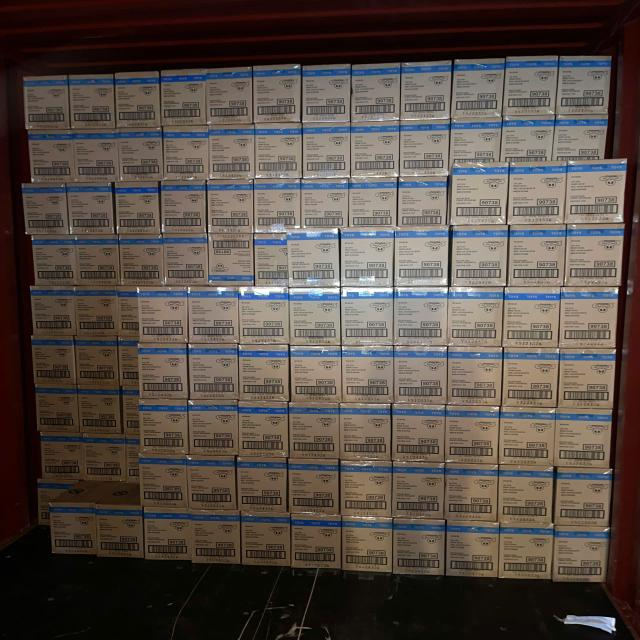Carton: (564, 157, 628, 224), (508, 159, 568, 227), (564, 223, 625, 287), (452, 161, 511, 227), (506, 225, 569, 286), (560, 285, 619, 350), (559, 347, 617, 411), (393, 226, 450, 290), (556, 466, 613, 530), (452, 226, 511, 287), (504, 286, 562, 348), (498, 406, 555, 469), (497, 464, 553, 528), (504, 54, 560, 118), (501, 347, 559, 408), (554, 407, 612, 468), (391, 516, 448, 578), (497, 521, 554, 582), (392, 460, 448, 522), (340, 226, 393, 291), (450, 286, 506, 347), (444, 404, 500, 465), (452, 58, 506, 121), (444, 460, 498, 523), (339, 458, 392, 522), (446, 520, 502, 580), (448, 345, 504, 405), (556, 54, 612, 114), (285, 227, 341, 287), (394, 286, 448, 348), (392, 403, 446, 465), (350, 62, 400, 128), (287, 401, 341, 462), (239, 510, 293, 571), (339, 402, 392, 464), (401, 61, 454, 123), (186, 285, 239, 347), (338, 514, 392, 574), (237, 285, 291, 345), (185, 453, 238, 514), (393, 345, 447, 404), (289, 510, 342, 570), (340, 286, 393, 346), (287, 286, 340, 346), (187, 398, 239, 459), (553, 525, 607, 583), (237, 400, 288, 461), (203, 66, 253, 128), (136, 286, 190, 343), (287, 459, 339, 518), (253, 64, 302, 126), (341, 346, 394, 403), (291, 345, 343, 403), (236, 455, 286, 515), (137, 342, 189, 399), (240, 342, 291, 400), (96, 502, 146, 561), (301, 65, 350, 125), (400, 119, 450, 177), (114, 70, 163, 129), (550, 113, 610, 161), (254, 122, 305, 178), (302, 122, 353, 178), (162, 125, 212, 182), (139, 452, 189, 509), (144, 506, 193, 564), (188, 344, 238, 400), (48, 501, 98, 557), (192, 509, 242, 565), (25, 129, 75, 184), (207, 231, 256, 287), (350, 122, 398, 179), (499, 114, 556, 162), (116, 127, 165, 182), (23, 74, 71, 130), (72, 128, 120, 184), (162, 232, 210, 288), (208, 125, 255, 182), (160, 68, 207, 124), (68, 73, 114, 130), (138, 398, 188, 450), (30, 234, 80, 286), (76, 383, 125, 436), (73, 334, 121, 388), (256, 182, 304, 235), (118, 233, 166, 286), (80, 431, 127, 485), (37, 431, 86, 482), (74, 234, 122, 286), (448, 117, 502, 162), (206, 186, 254, 236), (398, 180, 449, 227), (68, 187, 116, 236), (162, 186, 209, 236), (35, 382, 81, 433), (31, 334, 75, 386), (115, 188, 162, 236), (21, 189, 69, 236), (304, 182, 351, 228), (347, 185, 397, 228), (33, 293, 78, 340), (74, 292, 117, 339), (254, 233, 290, 288)
